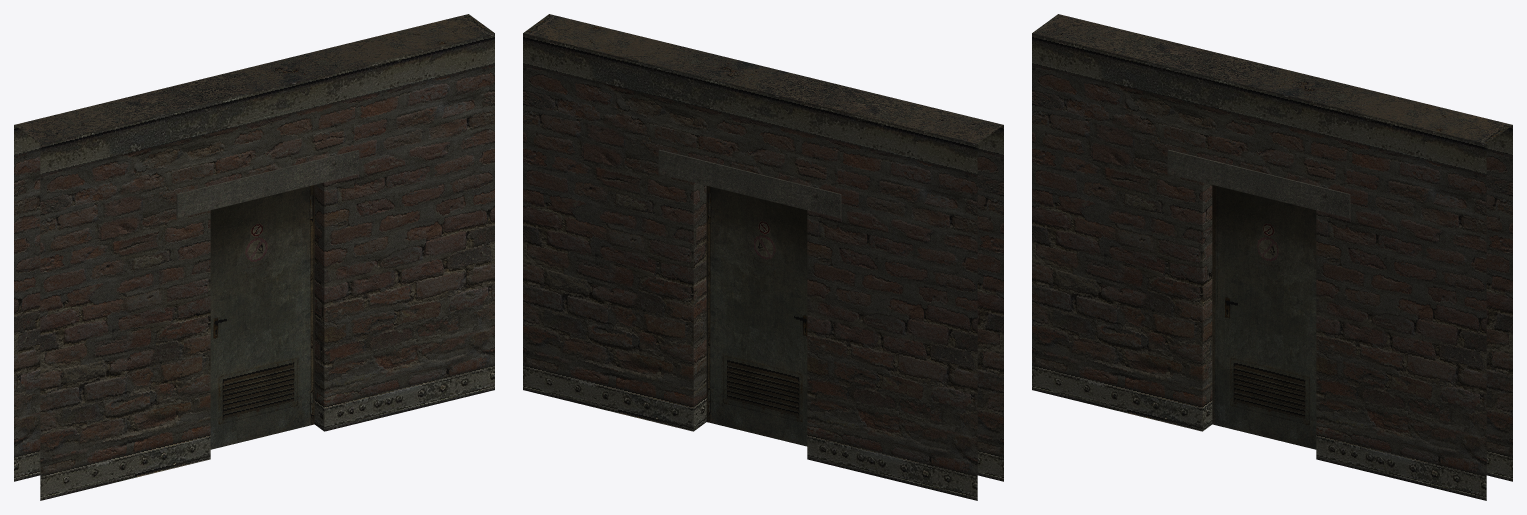
Rendered from doorway_hr_1.glb.
3 renders of one model, left to right at view 1: azimuth 30°, elevation 25°; view 2: azimuth 150°, elevation 25°; view 3: azimuth 330°, elevation 25°, orthographic.
Parts seen in each view (by area): view 1: doorway_hr_1, metal_door_1; view 2: doorway_hr_1, metal_door_1; view 3: doorway_hr_1, metal_door_1.
Part boxes in pixels (x1,y1,x2,y2): doorway_hr_1: (14,14,494,500); metal_door_1: (210,185,314,449); doorway_hr_1: (523,14,1003,500); metal_door_1: (706,186,807,446); doorway_hr_1: (1032,14,1512,500); metal_door_1: (1212,185,1316,449).
Size of the model in its own units: 4 by 3 by 0.42.
4 materials, 4 textured.
